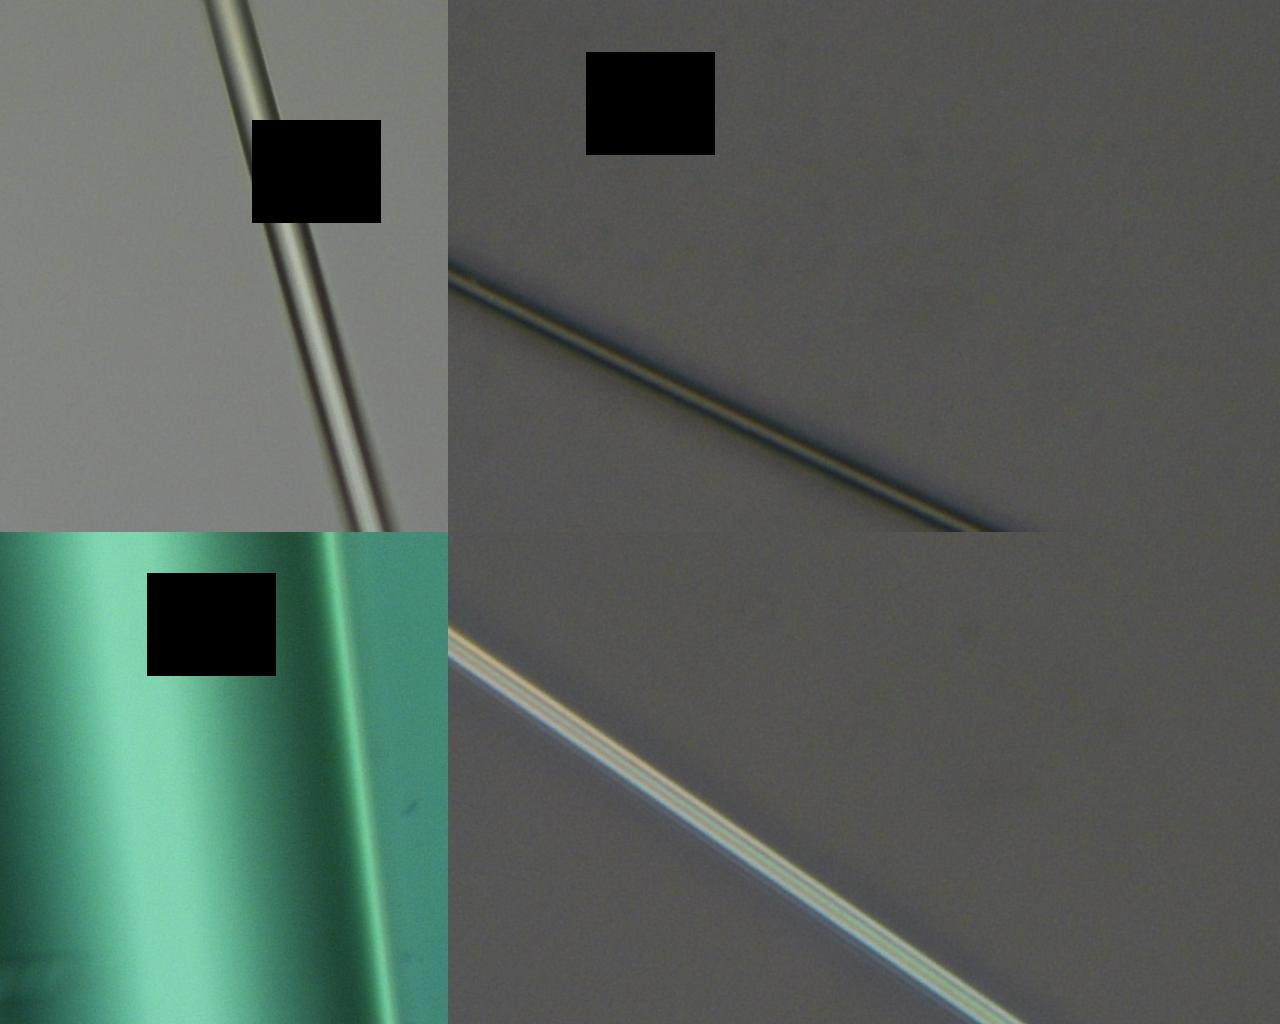fiber: (665, 119, 921, 706), (0, 178, 545, 251)
